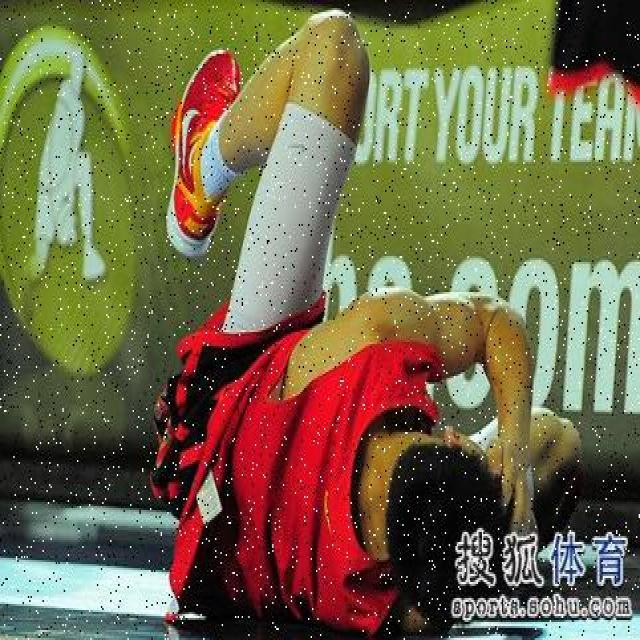fall: (153, 88, 532, 592)
